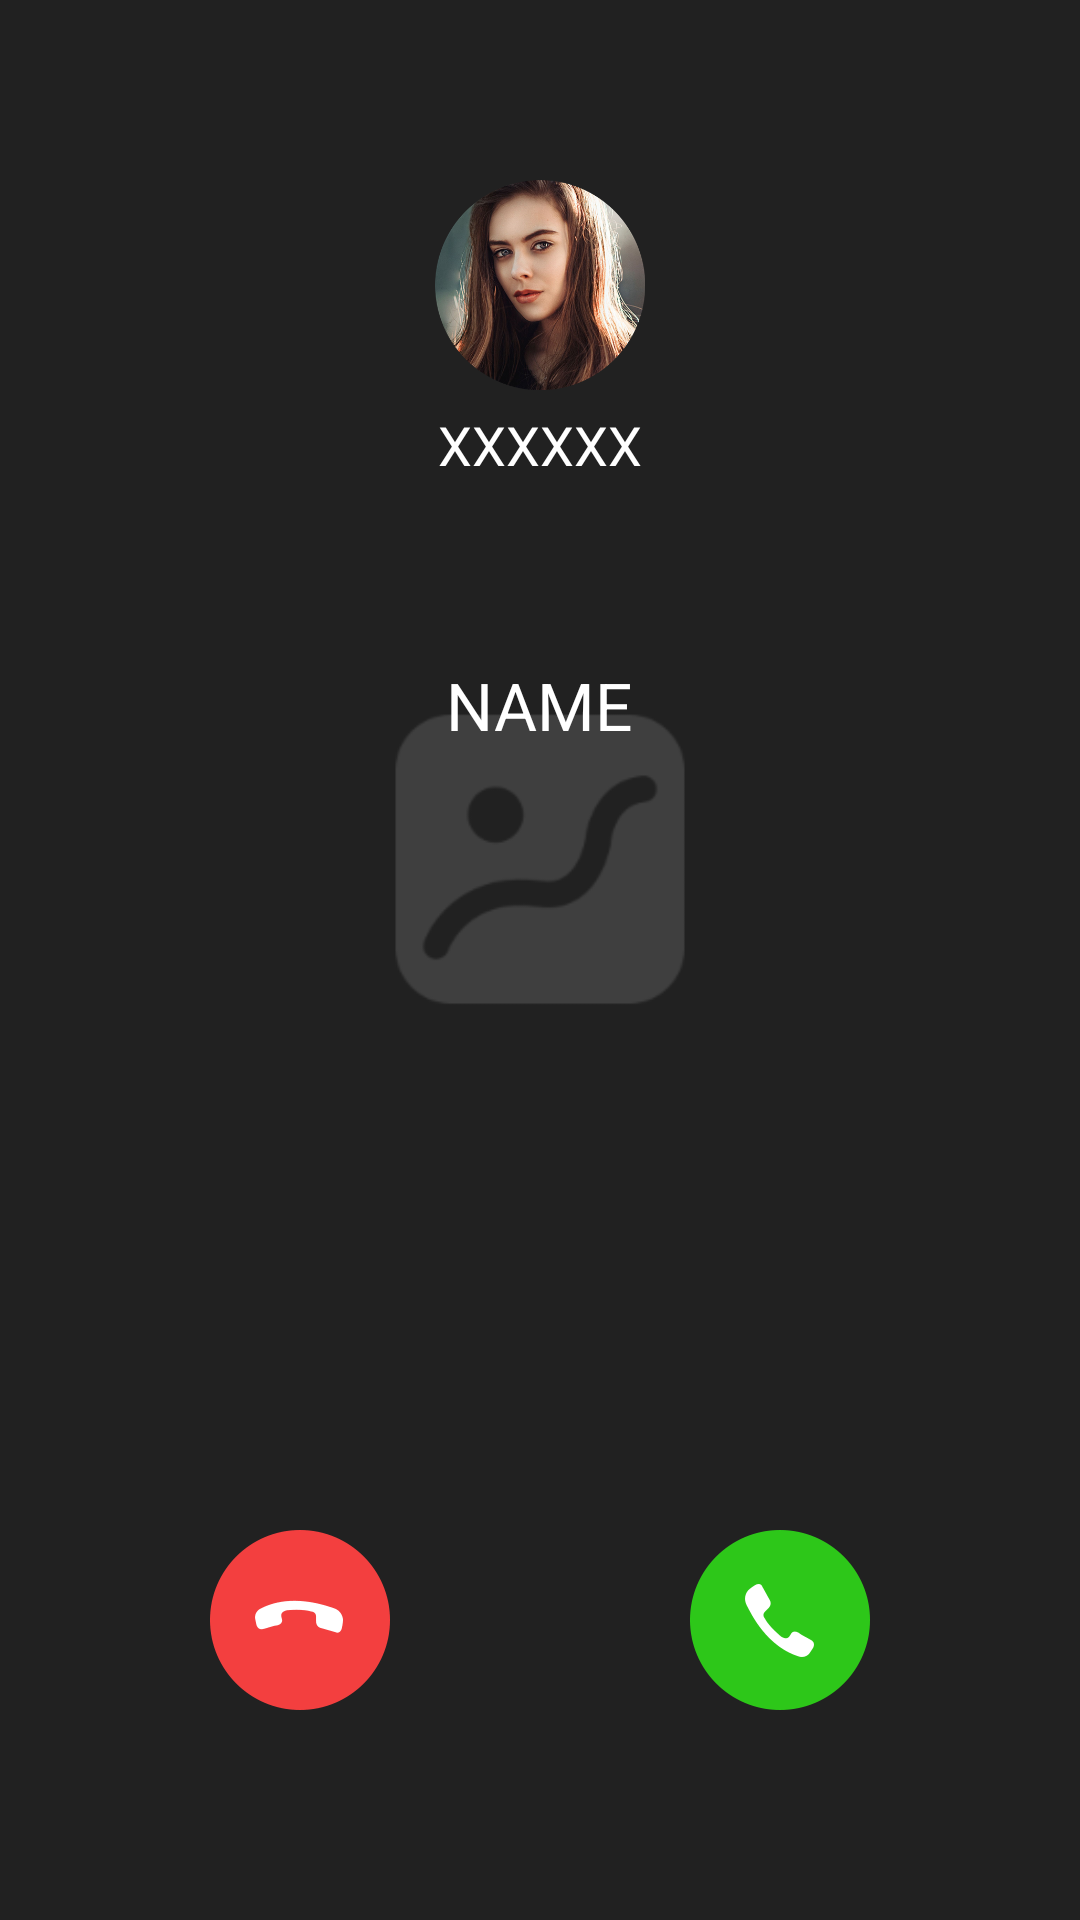

Screen size 1080w x 1920h. Icon name, then its box in pixels as rect(x1, y1, x2, y2):
glint accept: rect(690, 1530, 870, 1710)
glint refuse: rect(210, 1530, 390, 1710)
